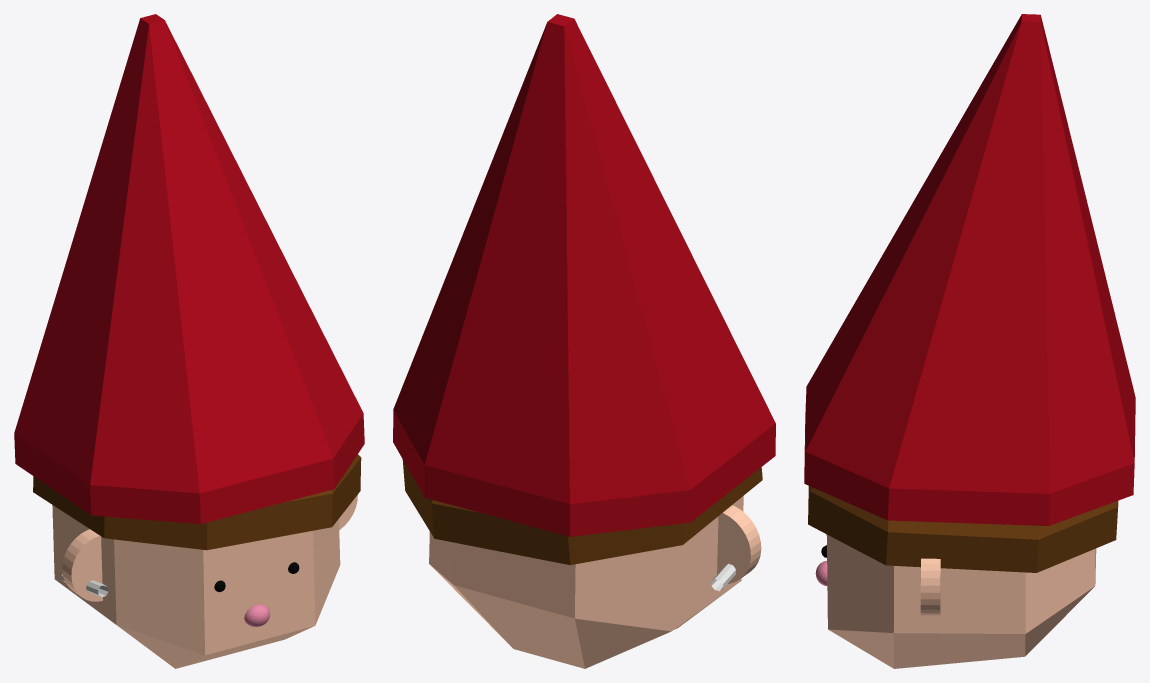
3 views of the same model, side by side, from view 1: azimuth 30°, elevation 25°; view 2: azimuth 150°, elevation 25°; view 3: azimuth 270°, elevation 25° (orthographic). The views are drawn at different scales.
Visible parts, largest first — view 1: Hat, Head, Hair; view 2: Hat, Head, Hair; view 3: Hat, Head, Hair.
Boxes of the visible parts, left/top/right/bottom form: Hat: left=14, top=14, right=364, bottom=523; Head: left=52, top=495, right=357, bottom=668; Hair: left=33, top=454, right=361, bottom=550; Hat: left=393, top=14, right=775, bottom=536; Head: left=429, top=496, right=761, bottom=668; Hair: left=402, top=459, right=762, bottom=565; Hat: left=804, top=14, right=1135, bottom=525; Head: left=826, top=534, right=1096, bottom=668; Hair: left=808, top=486, right=1118, bottom=572.
Bounding box in the file's own units: 335 × 667 × 323.
